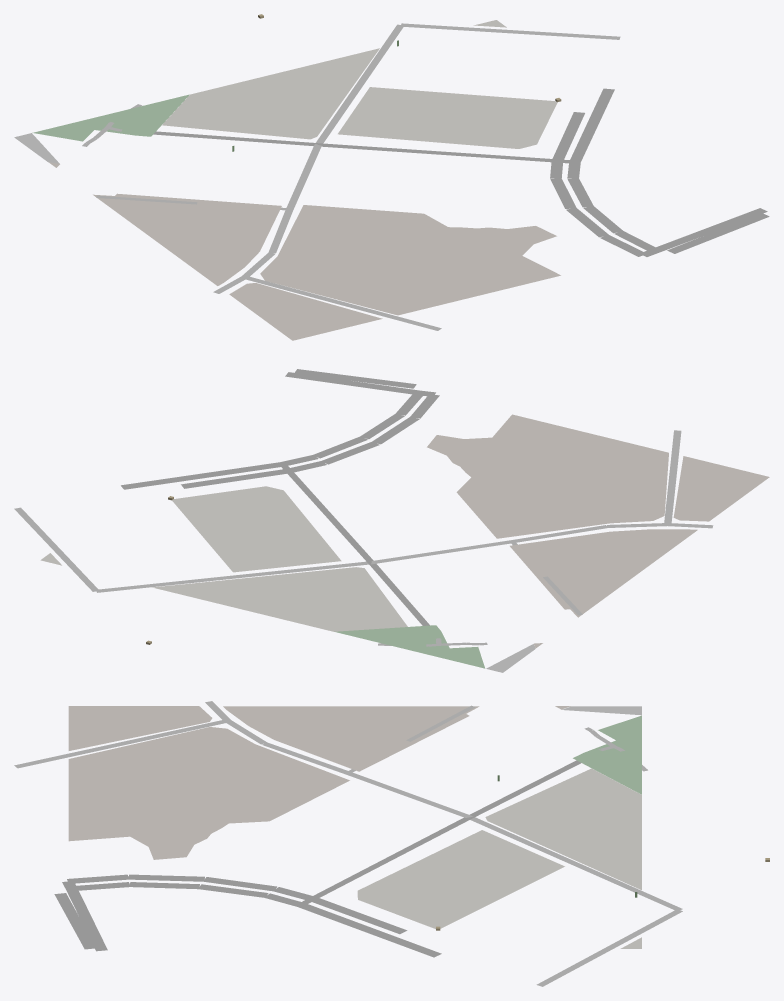
3 views of the same model, one above another, from view 1: azimuth 30°, elevation 25°; view 2: azimuth 150°, elevation 25°; view 3: azimuth 270°, elevation 25° (orthographic). The views are drawn at different scales.
Bounding box in the file's own units: 589 × 6.06 × 659.
